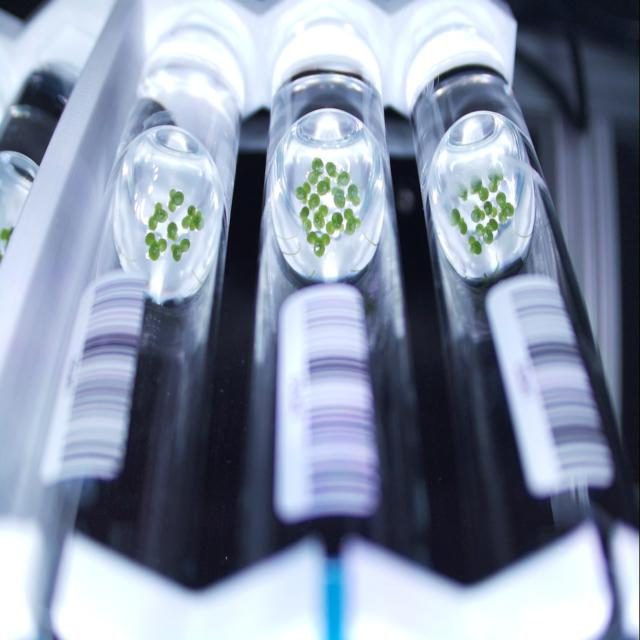Lemna-Gibba: (485, 163, 515, 230), (469, 200, 499, 255), (145, 232, 168, 260), (181, 205, 204, 230), (308, 232, 330, 257), (149, 202, 168, 230), (470, 175, 489, 202), (450, 208, 468, 235), (171, 238, 190, 262), (308, 157, 324, 185), (344, 208, 360, 235), (326, 212, 344, 235), (169, 188, 184, 212), (314, 205, 329, 228), (295, 182, 311, 203), (346, 183, 360, 206), (331, 187, 346, 208), (300, 207, 311, 233), (318, 177, 330, 195), (308, 193, 320, 210), (456, 183, 468, 200), (325, 162, 338, 177), (168, 222, 178, 240), (338, 172, 350, 187), (338, 175, 341, 183)
